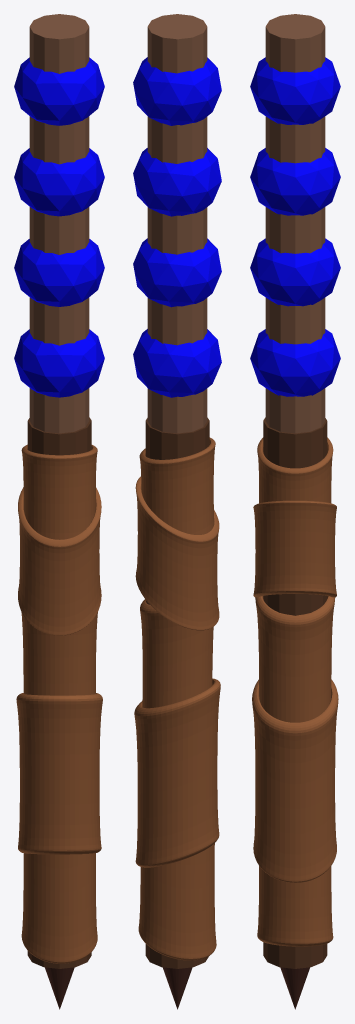
Rendered from Wand 332.glb.
3 renders of one model, left to right at view 1: azimuth 90°, elevation 25°; view 2: azimuth 150°, elevation 25°; view 3: azimuth 270°, elevation 25°, orthographic.
Parts seen in each view (by area): view 1: GeneratedWand; view 2: GeneratedWand; view 3: GeneratedWand.
Boxes of the visible parts, box(x1,y1,x2,y2) form: GeneratedWand: box(14, 14, 104, 1009); GeneratedWand: box(133, 14, 221, 1009); GeneratedWand: box(250, 14, 340, 1009).
Bounding box in the file's own units: 0.0408 × 0.512 × 0.0428.
